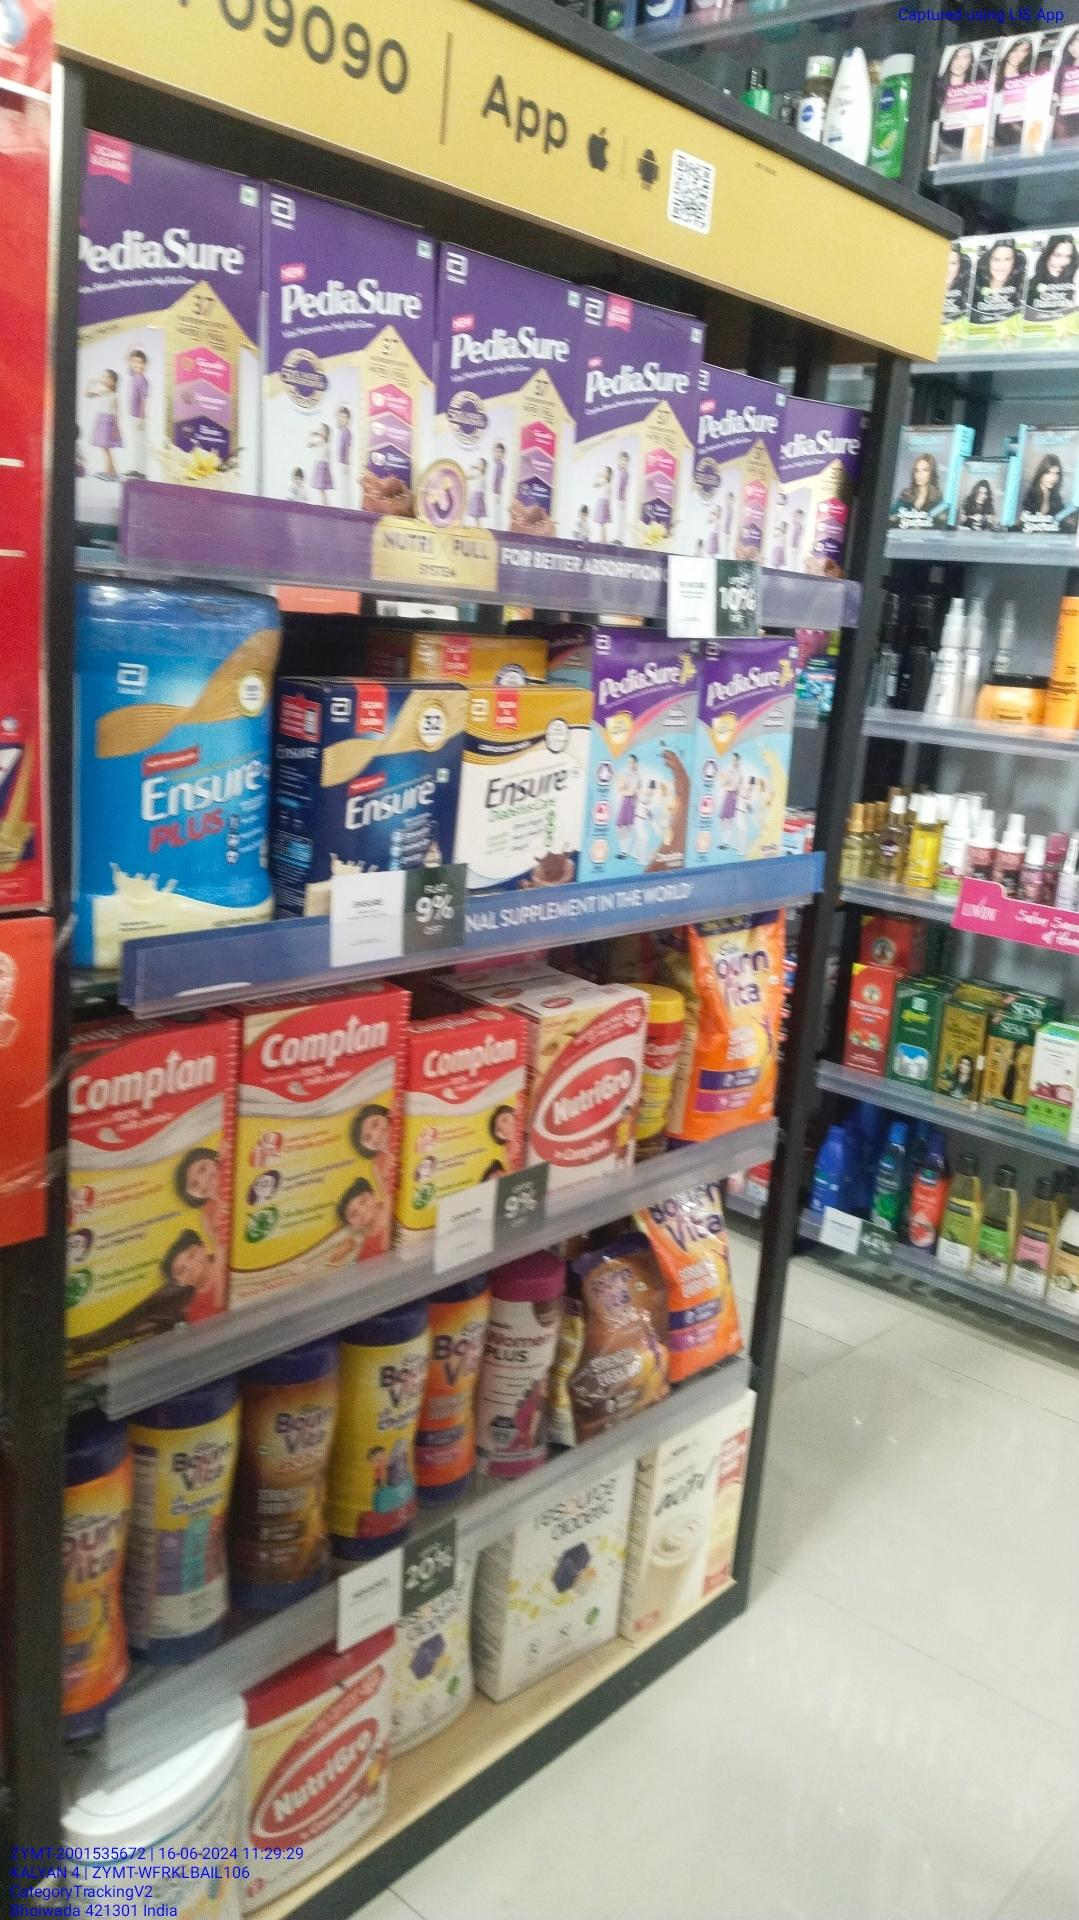BOURN_VITA_CHAMPS_500_G_JAR: (343, 1335, 430, 1553)
COMPLAN_CHOCOLATE_200_GMS_JAR: (637, 992, 687, 1170)
COMPLAN_KESAR_BADAM_200_GMS_PACK: (405, 1014, 528, 1212)
